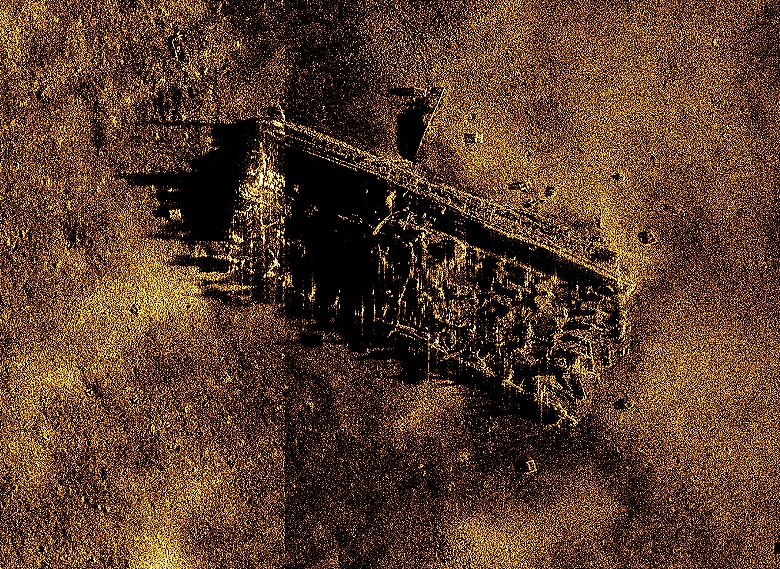ship: (215, 112, 638, 430)
